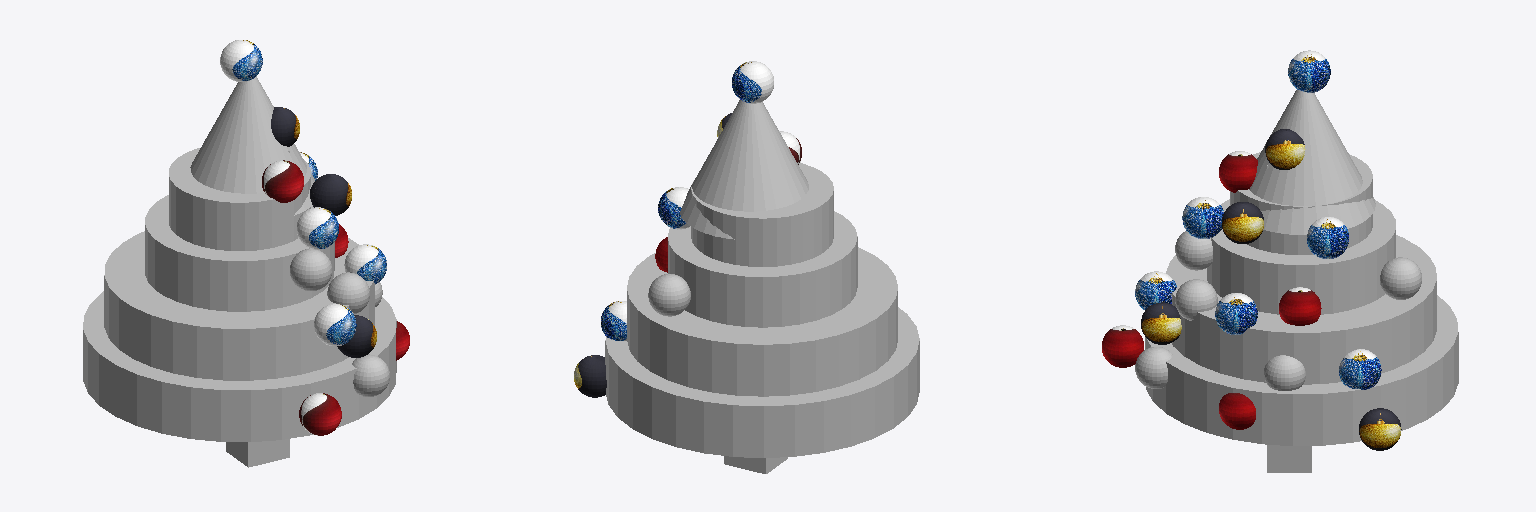
3 renders of one model, left to right at view 1: azimuth 30°, elevation 25°; view 2: azimuth 150°, elevation 25°; view 3: azimuth 270°, elevation 25°, orthographic.
Visible parts, largest first — view 1: Cylinder.003, Cylinder.002, Cylinder.001, Cylinder, Cone, Sphere.009, Sphere.007, Sphere.019, Sphere.002, Sphere.001, Sphere, Sphere.004 (+6 smaller); view 2: Cylinder.002, Cylinder.003, Cylinder.001, Cone, Cylinder, Sphere.016, Sphere.019, Sphere.012, Sphere.011, Sphere.017, Cube; view 3: Cylinder.003, Cylinder.002, Cylinder.001, Cone, Cylinder, Sphere.004, Sphere.012, Sphere.011, Sphere.016, Sphere.019, Sphere.009, Sphere.015 (+13 smaller).
Part boxes in pixels (bbox=[...]): Cylinder.003: bbox=[83, 291, 396, 441]; Cylinder.002: bbox=[104, 231, 374, 380]; Cylinder.001: bbox=[145, 195, 334, 311]; Cylinder: bbox=[169, 148, 310, 250]; Cone: bbox=[190, 76, 314, 215]; Sphere.009: bbox=[299, 393, 341, 435]; Sphere.007: bbox=[297, 207, 338, 249]; Sphere.019: bbox=[220, 40, 262, 81]; Sphere.002: bbox=[314, 304, 356, 345]; Sphere.001: bbox=[290, 249, 331, 290]; Sphere: bbox=[262, 160, 303, 202]; Sphere.004: bbox=[310, 174, 351, 215]; Cylinder.002: bbox=[627, 247, 897, 396]; Cylinder.003: bbox=[605, 307, 919, 457]; Cylinder.001: bbox=[668, 211, 857, 327]; Cone: bbox=[680, 100, 808, 239]; Cylinder: bbox=[691, 163, 833, 266]; Sphere.016: bbox=[648, 274, 690, 316]; Sphere.019: bbox=[732, 61, 773, 103]; Sphere.012: bbox=[574, 355, 606, 397]; Sphere.011: bbox=[658, 187, 689, 229]; Sphere.017: bbox=[601, 301, 626, 340]; Cube: bbox=[724, 456, 787, 473]; Cylinder.003: bbox=[1145, 295, 1458, 445]; Cylinder.002: bbox=[1166, 235, 1436, 384]; Cylinder.001: bbox=[1207, 199, 1395, 314]; Cone: bbox=[1249, 90, 1375, 234]; Cylinder: bbox=[1230, 152, 1372, 254]; Sphere.004: bbox=[1222, 202, 1263, 243]; Sphere.012: bbox=[1359, 408, 1401, 450]; Sphere.011: bbox=[1307, 217, 1348, 258]; Sphere.016: bbox=[1380, 257, 1421, 299]; Sphere.019: bbox=[1288, 50, 1330, 92]; Sphere.009: bbox=[1102, 325, 1143, 367]; Sphere.015: bbox=[1215, 293, 1257, 334].
Size of the model in its own units: 4.57 by 6.29 by 5.
Materials: 26 (3 with a texture image).